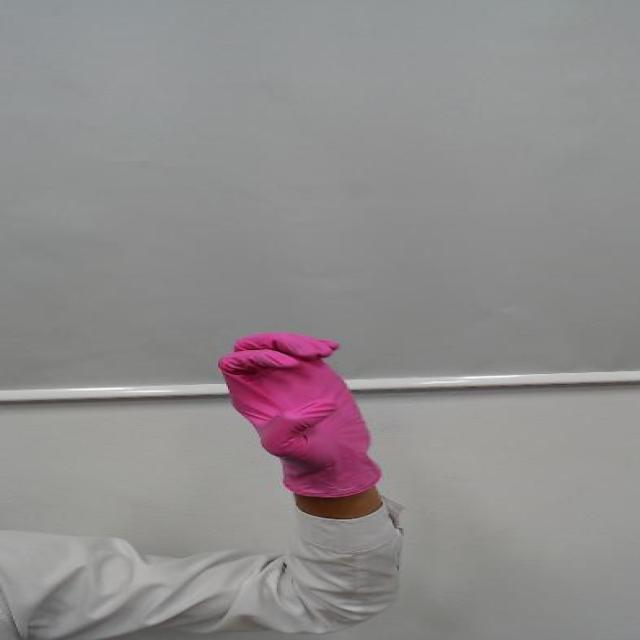gloved_hand: (200, 320, 396, 462)
